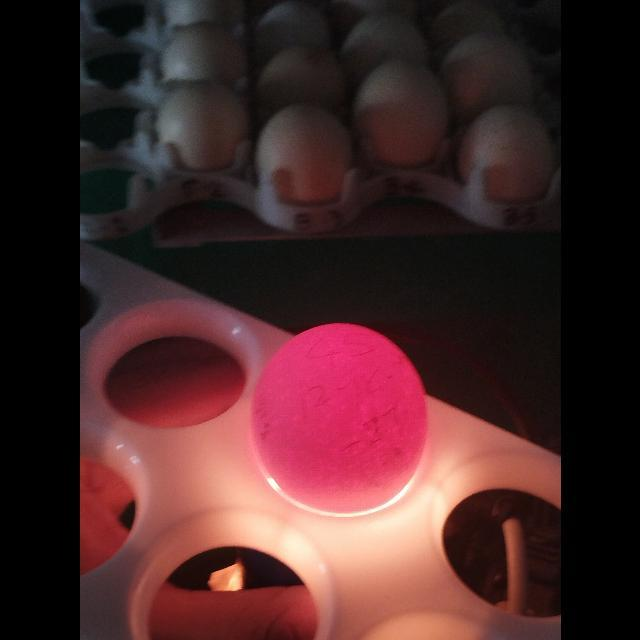Infertile: (248, 321, 432, 517)
